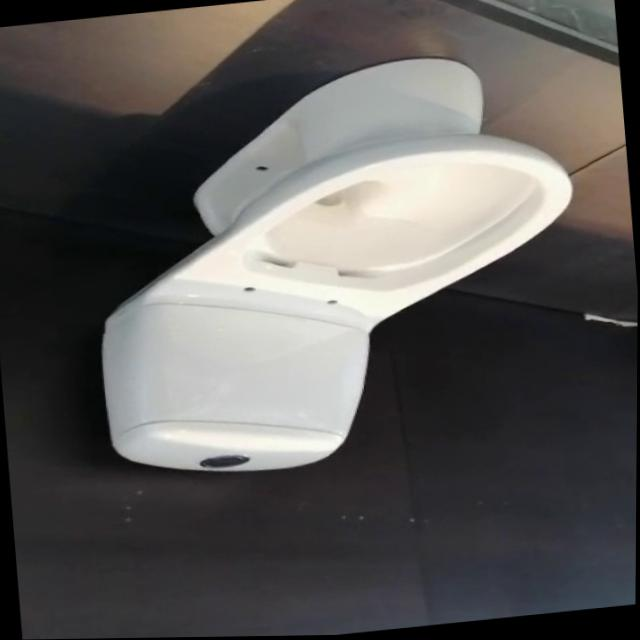toilet: (77, 45, 597, 489)
